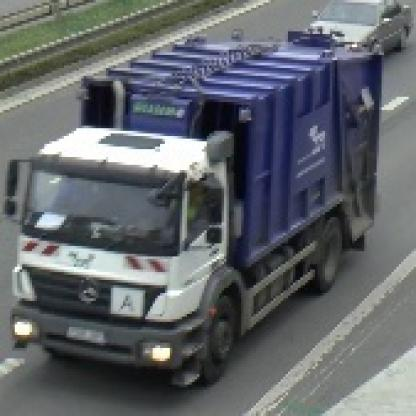truck: (1, 27, 380, 399)
